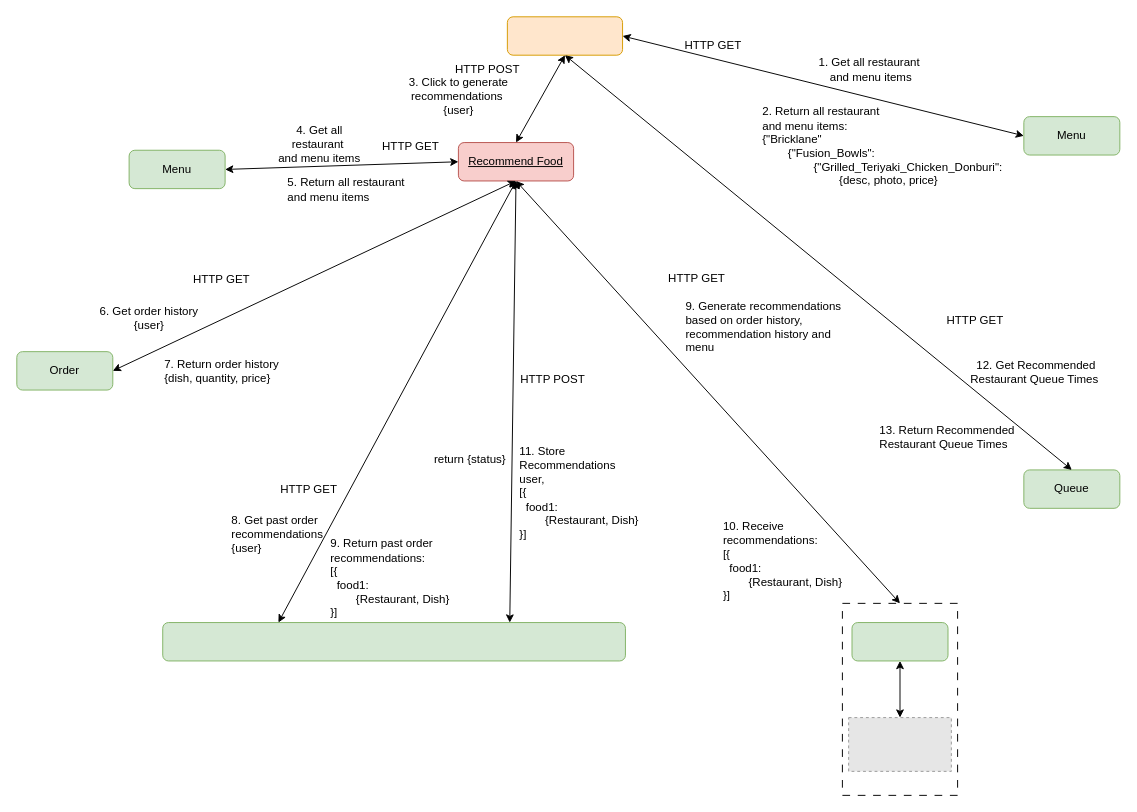
Some shapes in this 1137 by 812 pixel diagram are drawn without their labels. Grey dashed boxes stand in for pictures. The shapes that lost their labels are listed below. From the top down, each one's centre as x and y in pixels, then its label:
At point 564,35: "Customer UI".
At point 393,641: "Recommendation".
At point 899,641: "ChatGPT".
